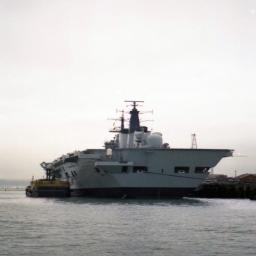Portanaves: (41, 91, 237, 202)
